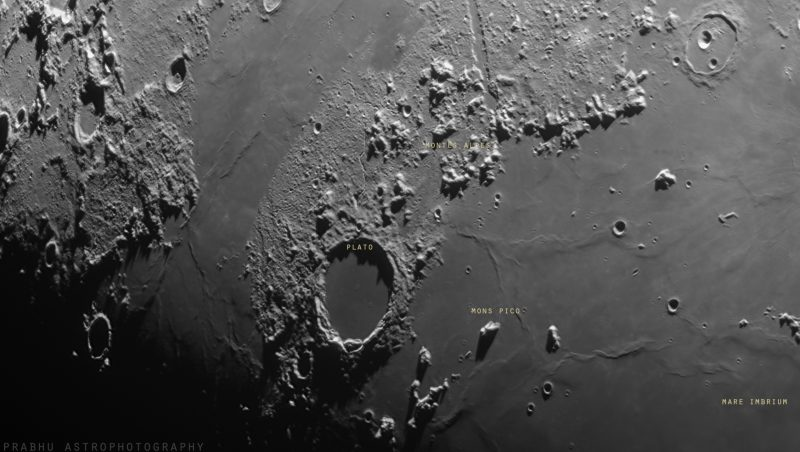crater: (668, 11, 749, 92), (154, 38, 201, 104), (689, 28, 718, 56)
